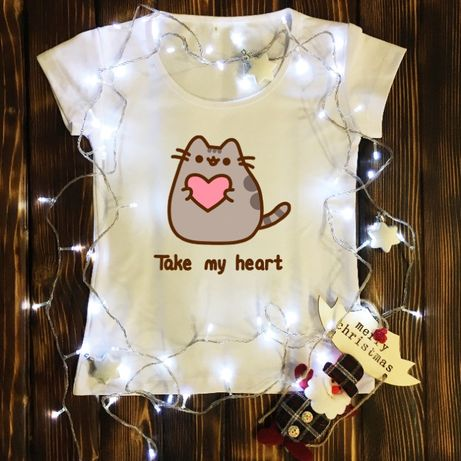cat: (157, 129, 264, 179)
